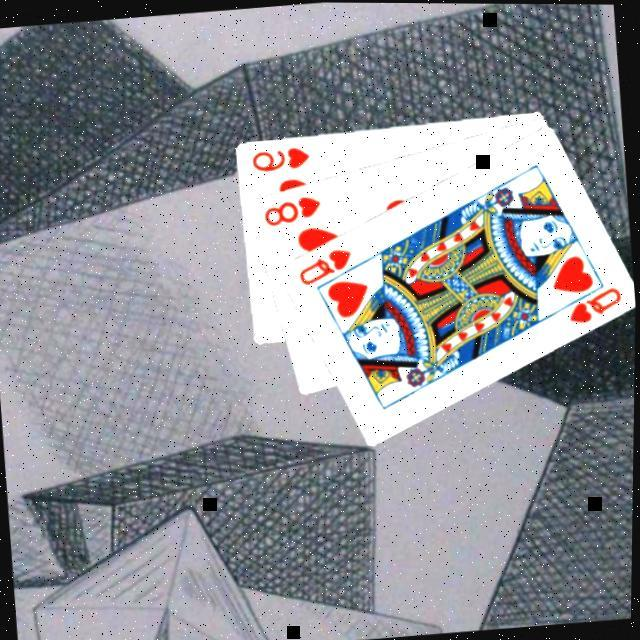8H: (260, 191, 327, 229)
9H: (248, 142, 314, 174)
QH: (552, 278, 628, 328), (295, 244, 358, 289)
